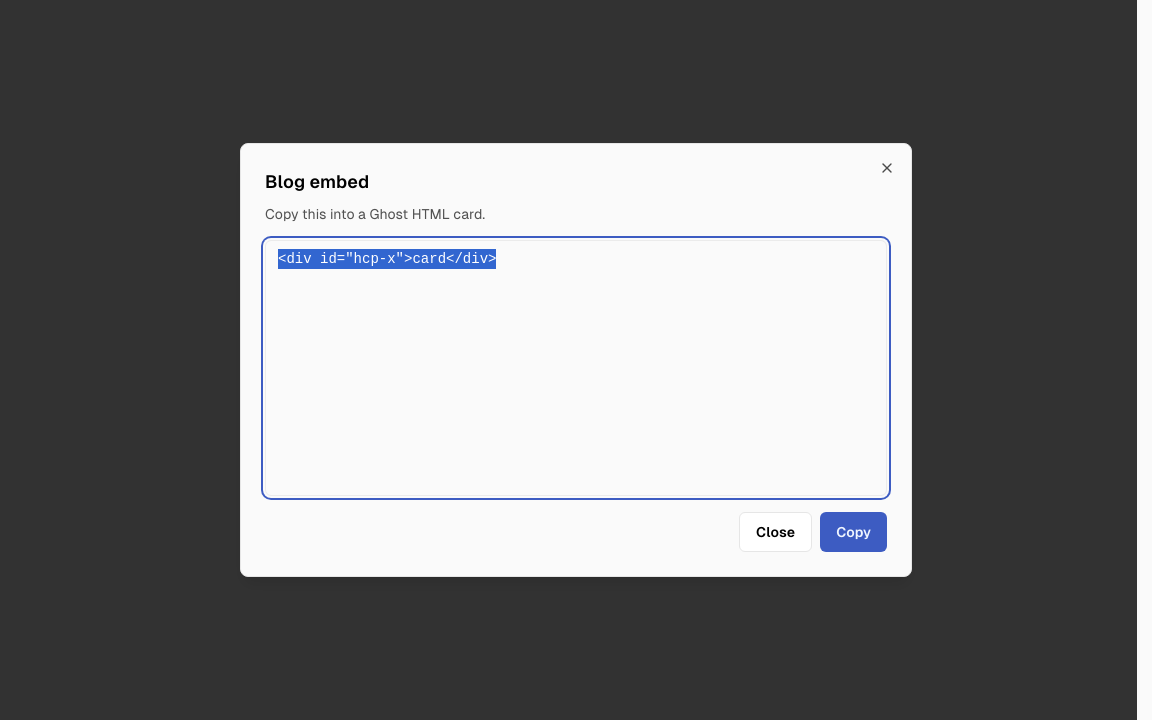
Test case: PassageEmbedDialog › copies through the clipboard API when the page is secure
The image size is (1152, 720).
Click the button "Copy": (854, 532) [820,512,887,552]
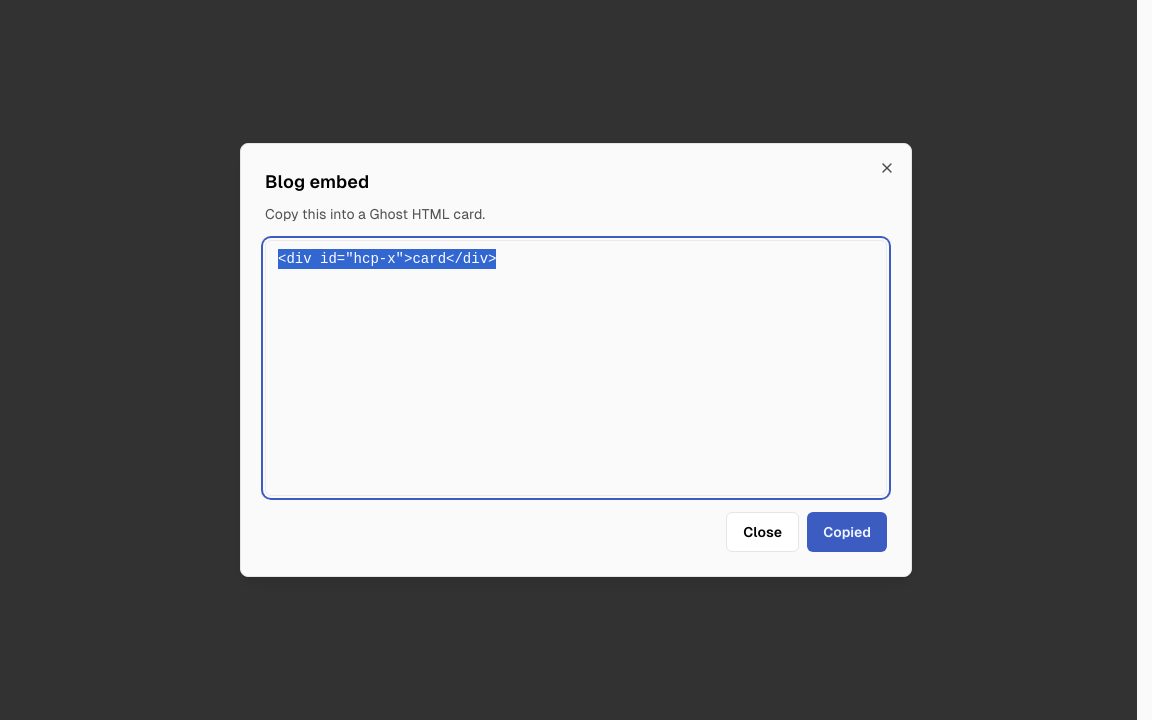
expect the button "Copied" is shown: met, box [807,512,887,552]
